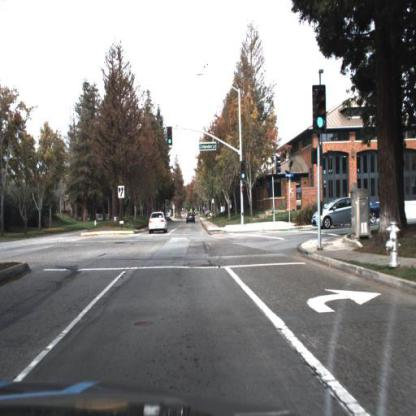biker: (206, 209, 211, 221)
car: (309, 196, 363, 229), (312, 196, 359, 229), (147, 212, 169, 238), (186, 211, 198, 227)
trafficLight-Green: (167, 126, 175, 147), (166, 126, 174, 145), (241, 161, 247, 183)
